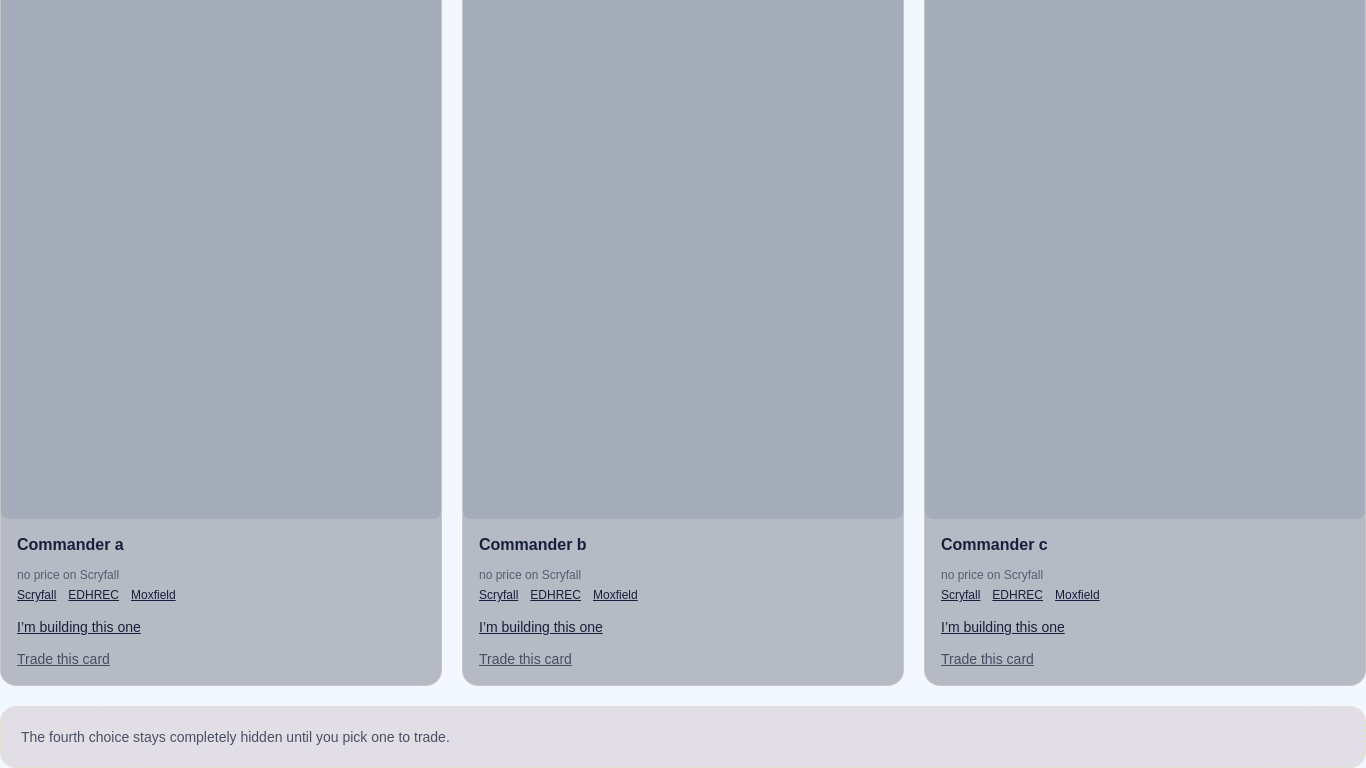
Test: saying which one is being built › surfaces a refusal rather than appearing to have saved
(page scrolled)
What coordinates should you click on to do the following:
click the button "I’m building this one" below "Commander a"
I would click on:
 (79, 627)
Its box is x1=17 y1=617 x2=141 y2=637.
(page scrolled)
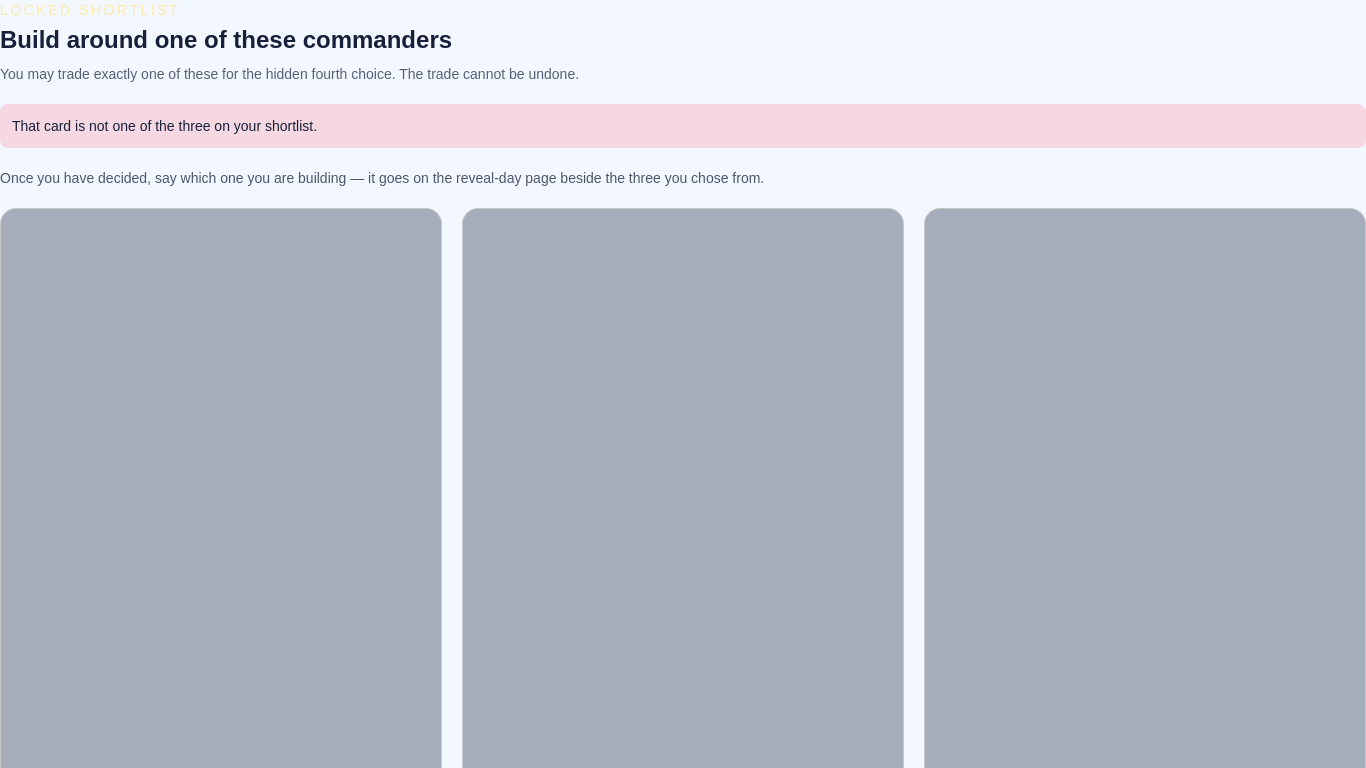
Expected: the message shows "not one of the three", x1=12 y1=118 x2=317 y2=134
